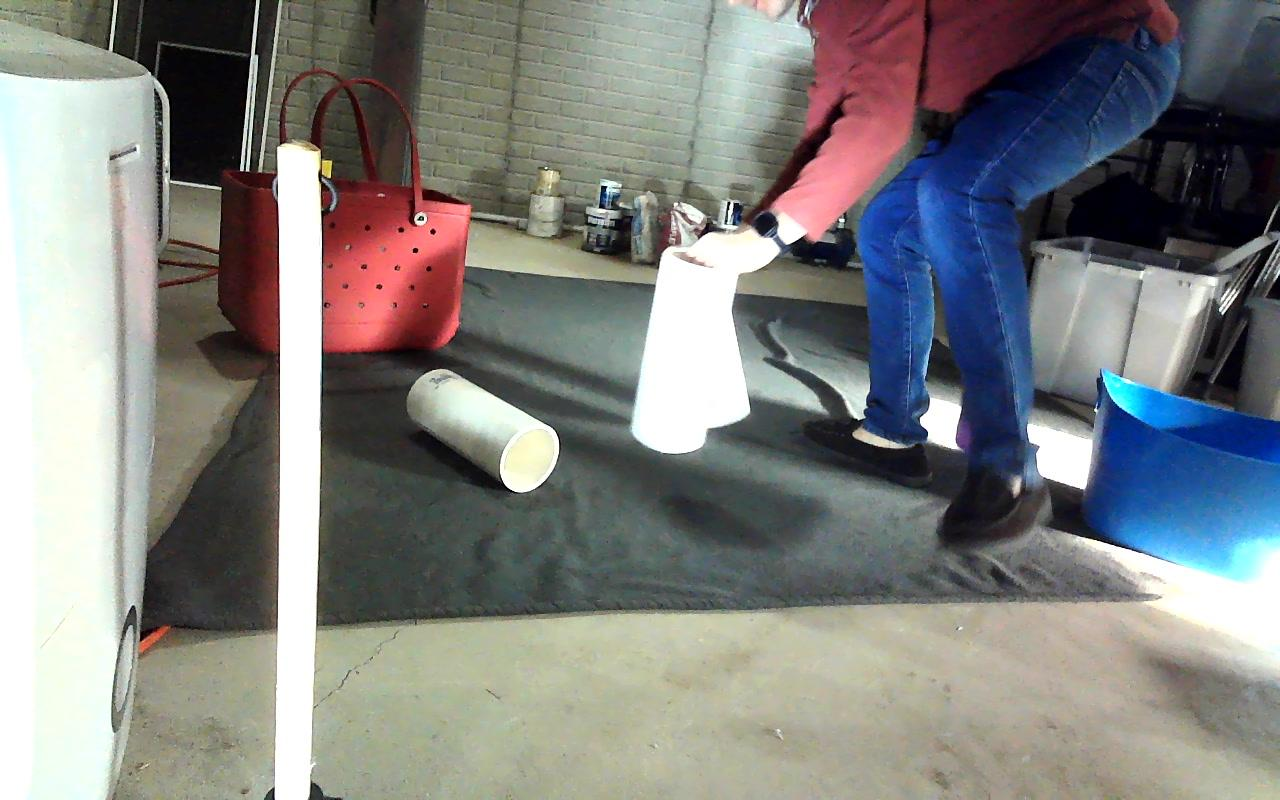coral: (629, 241, 751, 451), (405, 368, 558, 491)
